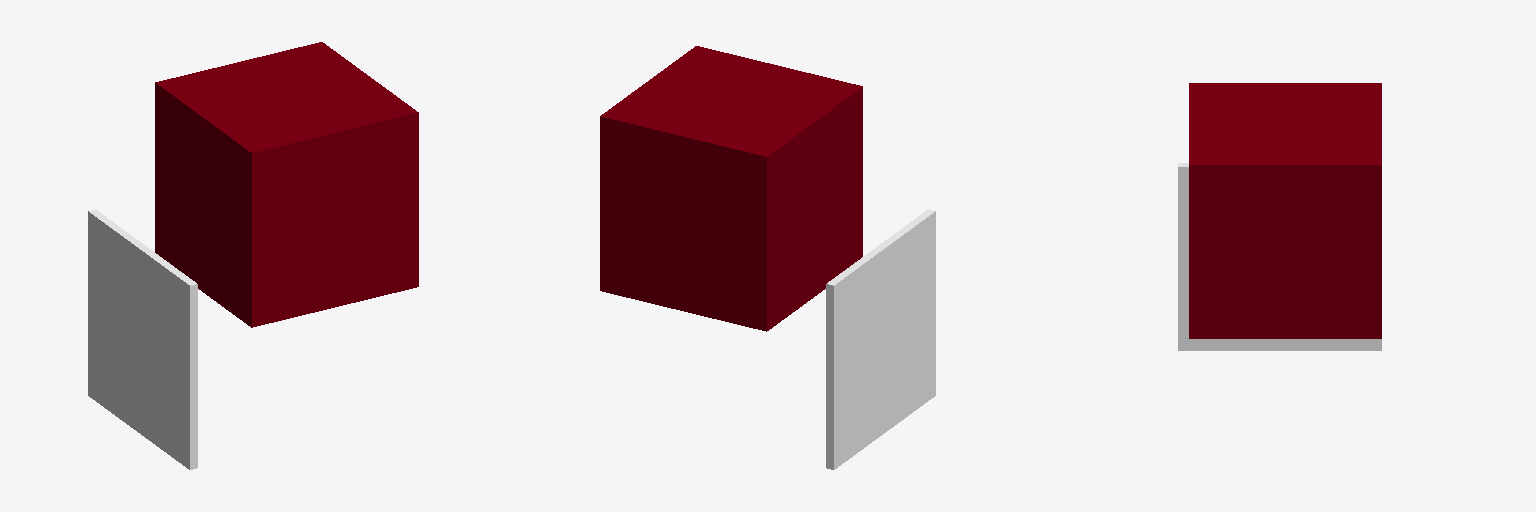
File: glastest.obj
3 renders of one model, left to right at view 1: azimuth 30°, elevation 25°; view 2: azimuth 150°, elevation 25°; view 3: azimuth 270°, elevation 25°, orthographic.
Visible parts, largest first — view 1: Object.2, Object.1; view 2: Object.2, Object.1; view 3: Object.2, Object.1.
Part boxes in pixels (x1,y1,x2,y2): Object.2: (155, 42, 418, 327); Object.1: (88, 209, 197, 469); Object.2: (600, 46, 862, 331); Object.1: (826, 209, 935, 469); Object.2: (1189, 83, 1381, 338); Object.1: (1178, 163, 1381, 350).
Size of the model in its own units: 55.89 by 67.72 by 42.11.